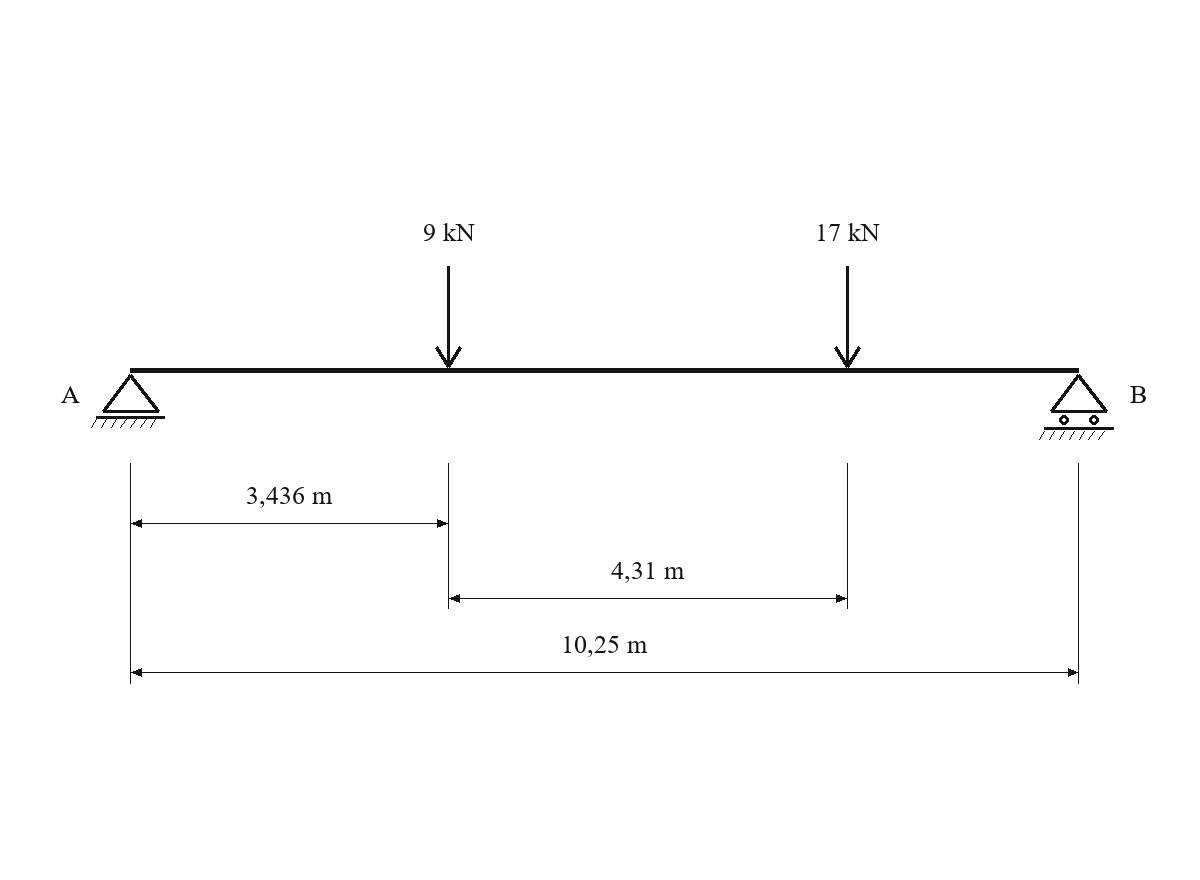pin_support: (91, 374, 165, 428)
point_load: (435, 266, 462, 368), (834, 266, 861, 368)
roller_support: (1039, 374, 1114, 440)
